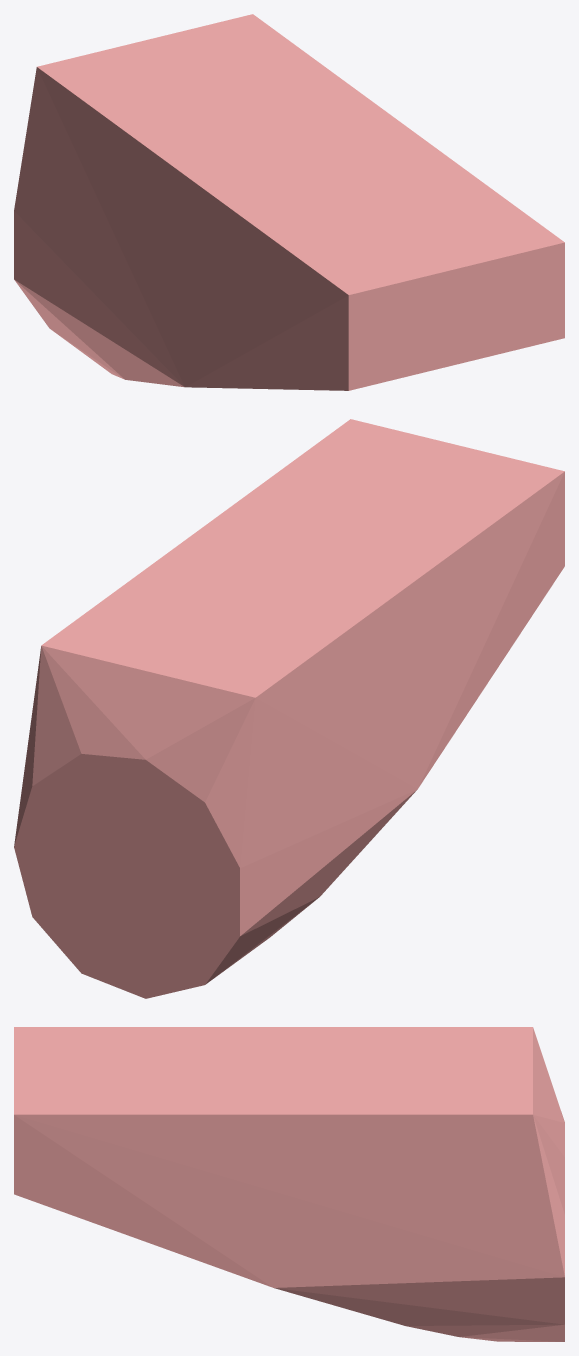
File: dvkr_robot_R_link1_respondable_coll_1.dae
3 renders of one model, top to bottom at view 1: azimuth 30°, elevation 25°; view 2: azimuth 150°, elevation 25°; view 3: azimuth 270°, elevation 25°, orthographic. The views are drawn at different scales.
Visible parts, largest first — view 1: Node_0000023514CD7BC0; view 2: Node_0000023514CD7BC0; view 3: Node_0000023514CD7BC0.
Part boxes in pixels (x1=…): Node_0000023514CD7BC0: x1=14, y1=14, x2=564, y2=390; Node_0000023514CD7BC0: x1=14, y1=419, x2=564, y2=998; Node_0000023514CD7BC0: x1=14, y1=1027, x2=564, y2=1341.
Bounding box in the file's own units: 0.1396 × 0.18 × 0.345.
